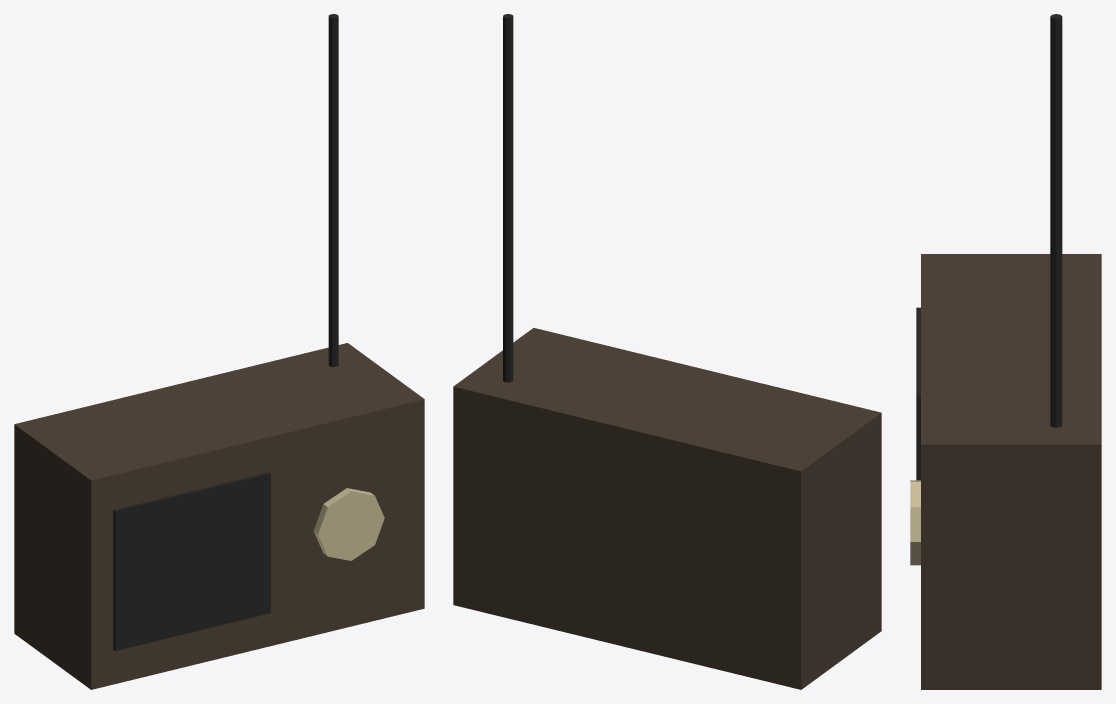
The model's file is radio.glb.
3 views of the same model, side by side, from view 1: azimuth 30°, elevation 25°; view 2: azimuth 150°, elevation 25°; view 3: azimuth 270°, elevation 25° (orthographic). The views are drawn at different scales.
Visible parts, largest first — view 1: radio; view 2: radio; view 3: radio.
Boxes of the visible parts, left/top/right/bottom form: radio: left=14, top=14, right=424, bottom=689; radio: left=453, top=14, right=881, bottom=689; radio: left=910, top=14, right=1101, bottom=689.
Size of the model in its own units: 0.2187 by 0.35 by 0.0926.
